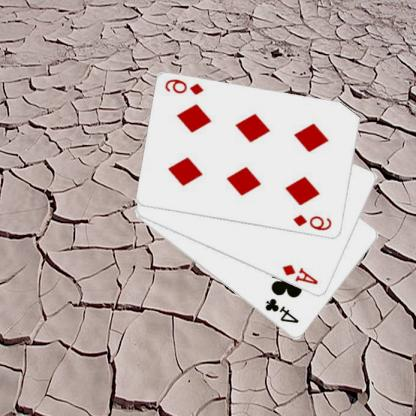4C: (264, 296, 302, 326)
6D: (293, 212, 335, 233), (164, 76, 207, 96)
AD: (281, 262, 321, 286)
